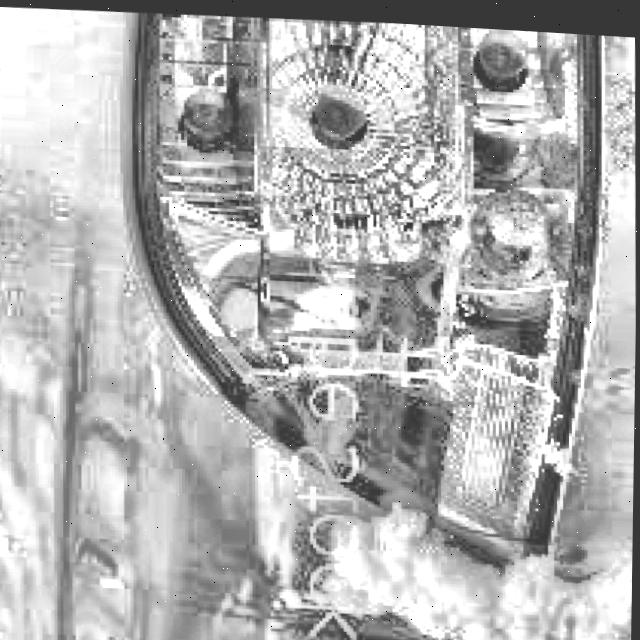tail_lamp: (263, 16, 551, 381)
